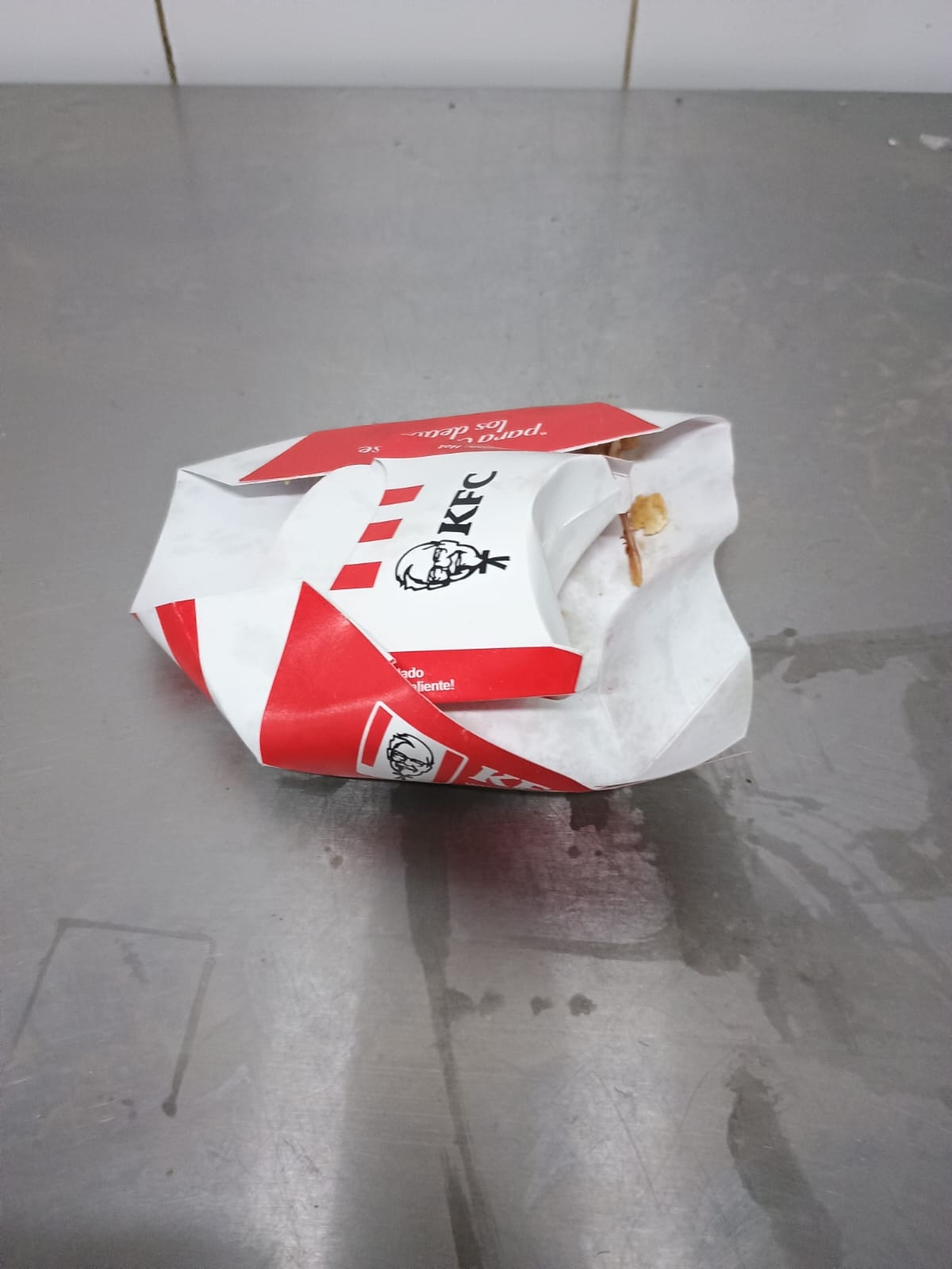Carton: (133, 409, 756, 791)
